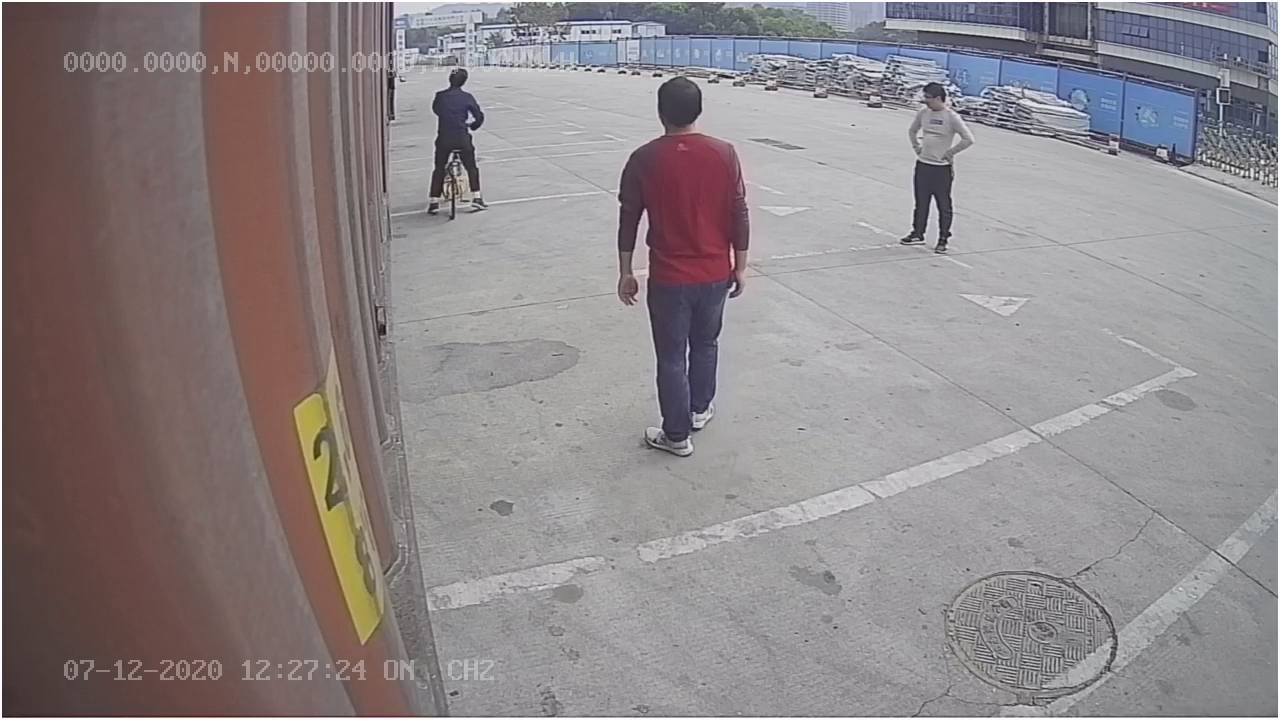person: (612, 73, 757, 465)
